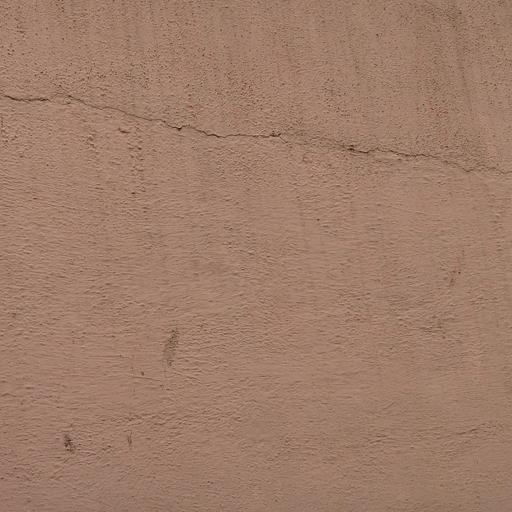minor_crack: (0, 69, 512, 186)
